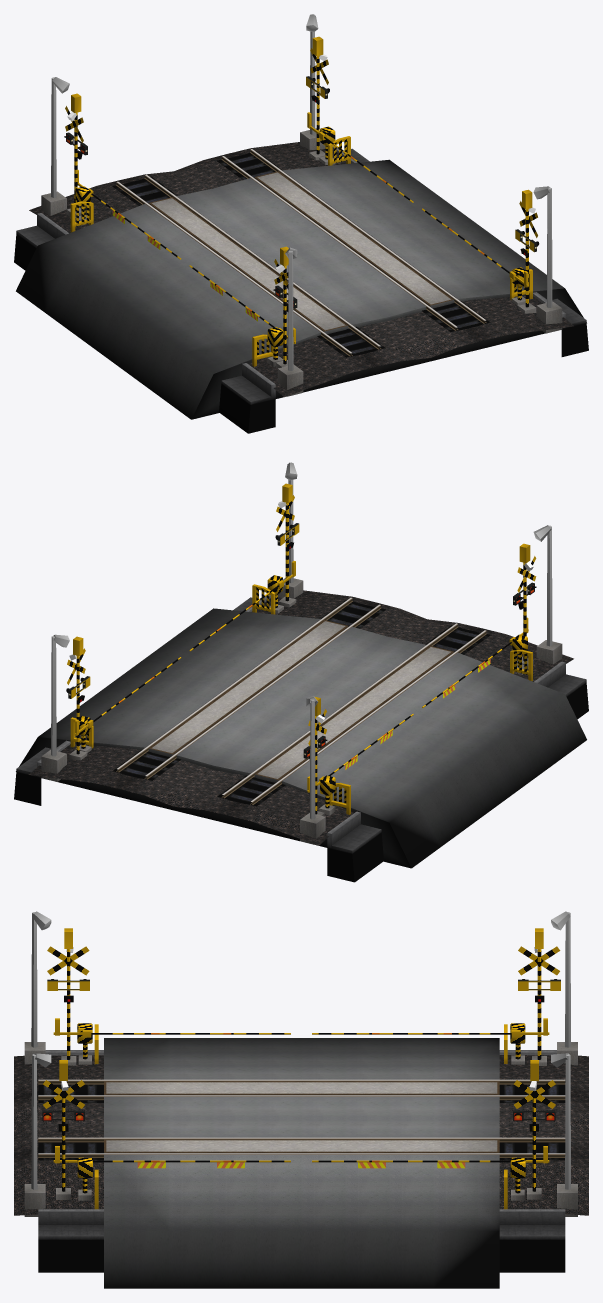
The model's file is MEI_2RAIL_50_HUMIKIRI.glb.
The picture shows the model from 3 angles, top to bottom: view 1: azimuth 30°, elevation 25°; view 2: azimuth 150°, elevation 25°; view 3: azimuth 270°, elevation 25°; orthographic projection. The views are drawn at different scales.
Visible parts, largest first — view 1: LeftWall1, obj9, obj8, Humikiri (×2), Humi (×2); view 2: LeftWall1, obj8, obj9, Humikiri (×2), Humi (×2); view 3: LeftWall1, Humi (×2), Humikiri (×2), obj9, obj8, BAR3_Long (×2), BAR3_Long1 (×2).
Part boxes in pixels (left/top/right/bottom): LeftWall1: left=14, top=142, right=588, bottom=433; obj9: left=252, top=186, right=562, bottom=396; obj8: left=41, top=14, right=350, bottom=232; Humikiri (×2): left=267, top=36, right=335, bottom=368; Humi (×2): left=64, top=93, right=539, bottom=313; LeftWall1: left=14, top=590, right=588, bottom=882; obj8: left=41, top=634, right=350, bottom=844; obj9: left=252, top=462, right=562, bottom=681; Humikiri (×2): left=66, top=543, right=536, bottom=760; Humi (×2): left=267, top=483, right=335, bottom=816; LeftWall1: left=14, top=1038, right=588, bottom=1288; Humi (×2): left=42, top=928, right=560, bottom=1200; Humikiri (×2): left=47, top=928, right=555, bottom=1200; obj9: left=24, top=911, right=98, bottom=1216; obj8: left=504, top=911, right=577, bottom=1216; BAR3_Long (×2): left=53, top=1018, right=549, bottom=1163; BAR3_Long1 (×2): left=53, top=1018, right=549, bottom=1163.
Bounding box in the file's own units: 48.81 × 20.67 × 54.53.
Materials: 68 (65 with a texture image).
